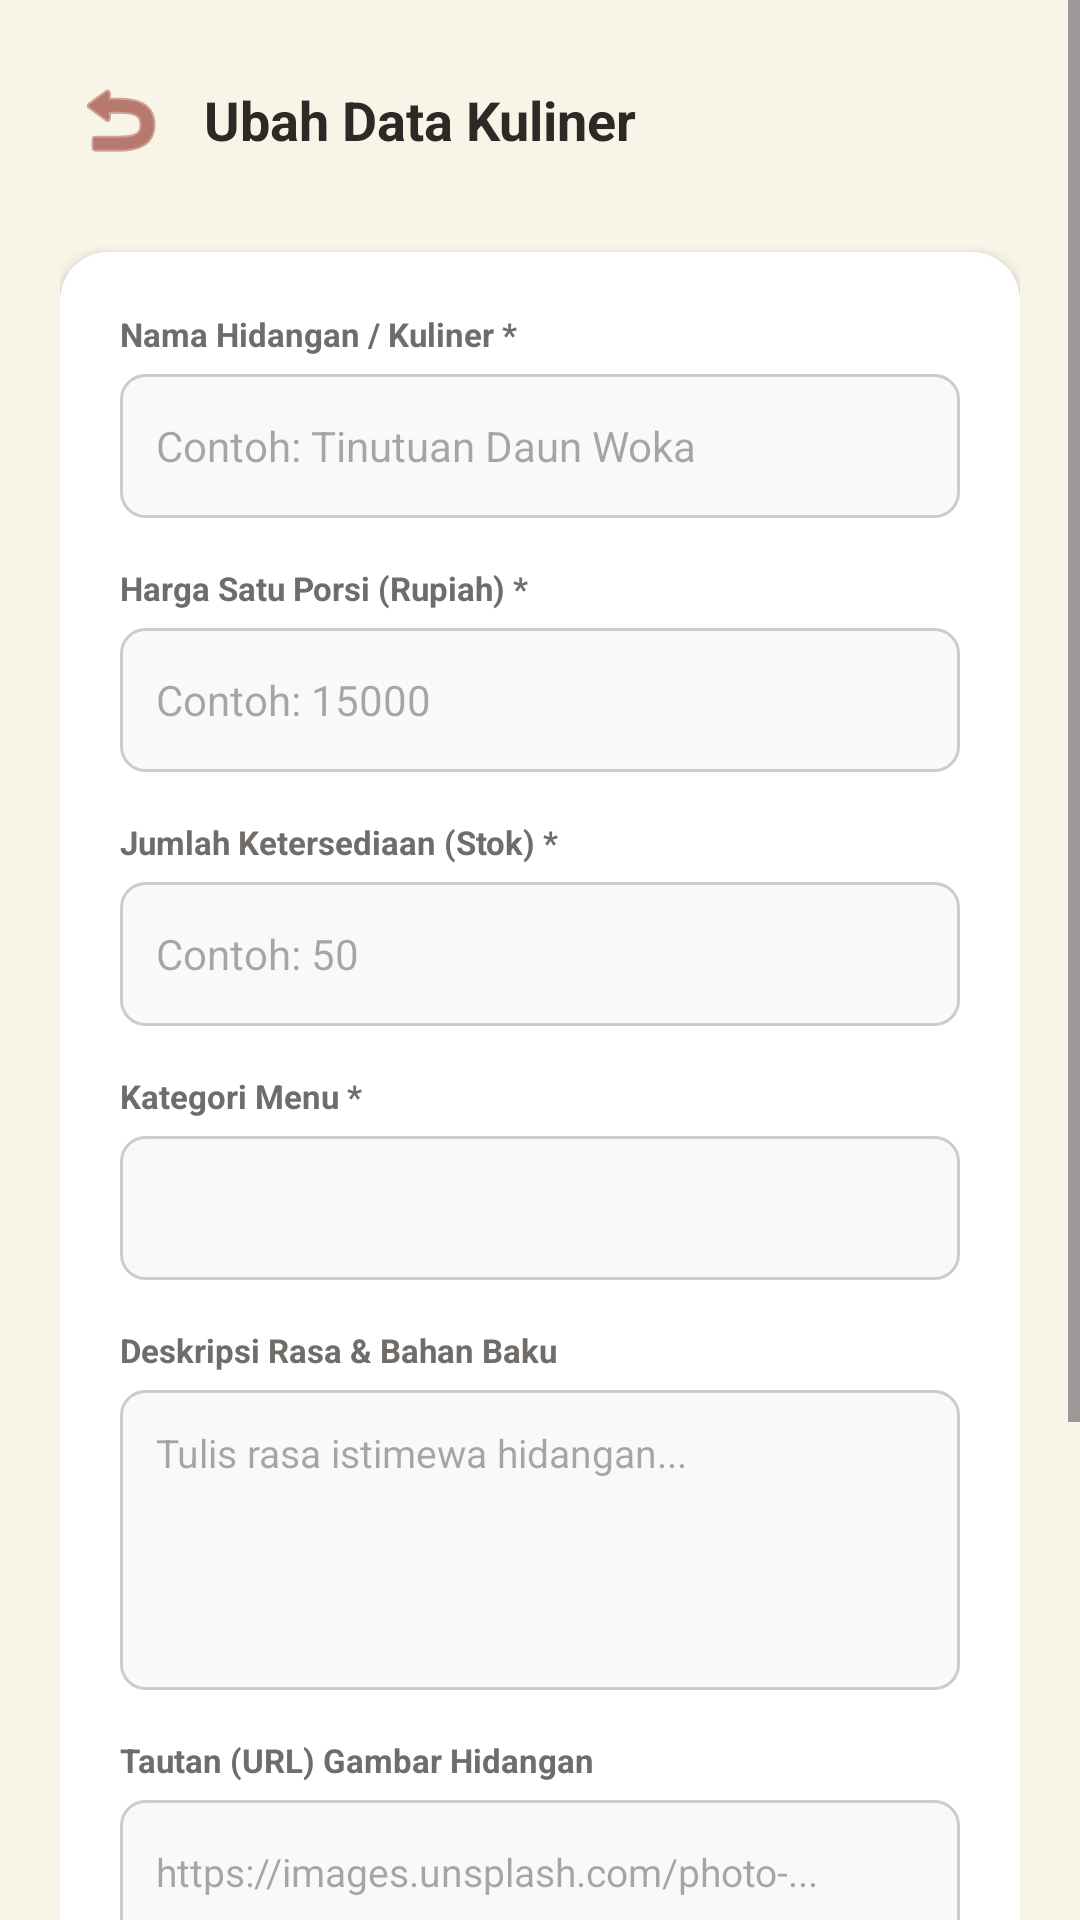

Point at icon controls on the screen. Image size 1080w x 1920h, points as point (x, y).
Back: point (121, 120)
